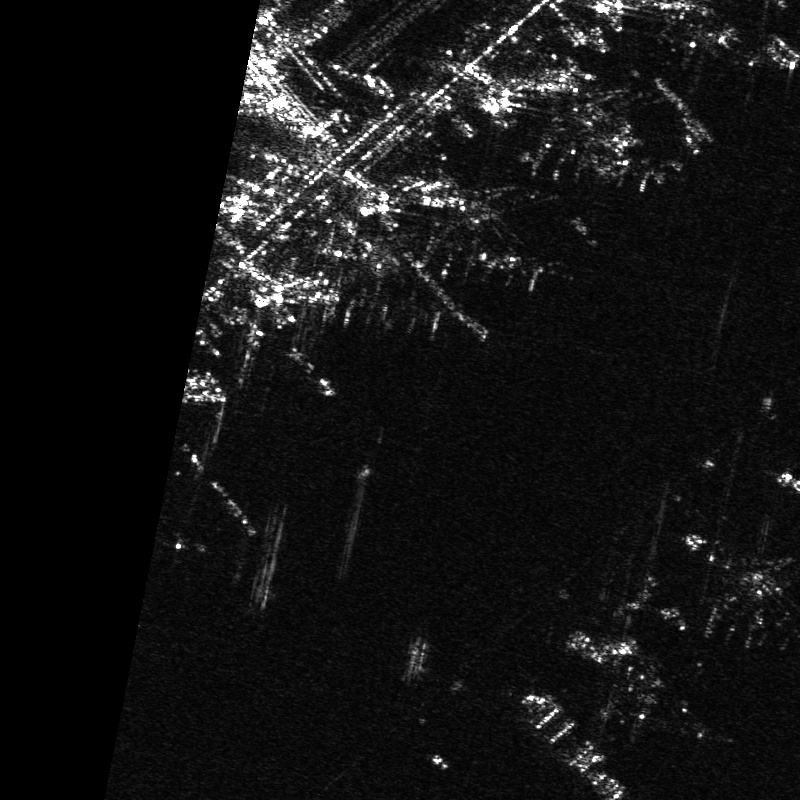Boeing737: (523, 88, 672, 198)
other: (581, 628, 734, 749), (420, 182, 555, 283), (687, 533, 799, 653)
